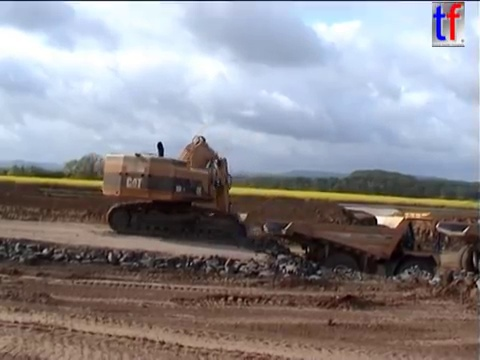excavator: (99, 133, 250, 246)
truck: (260, 210, 444, 298), (433, 219, 480, 282)
